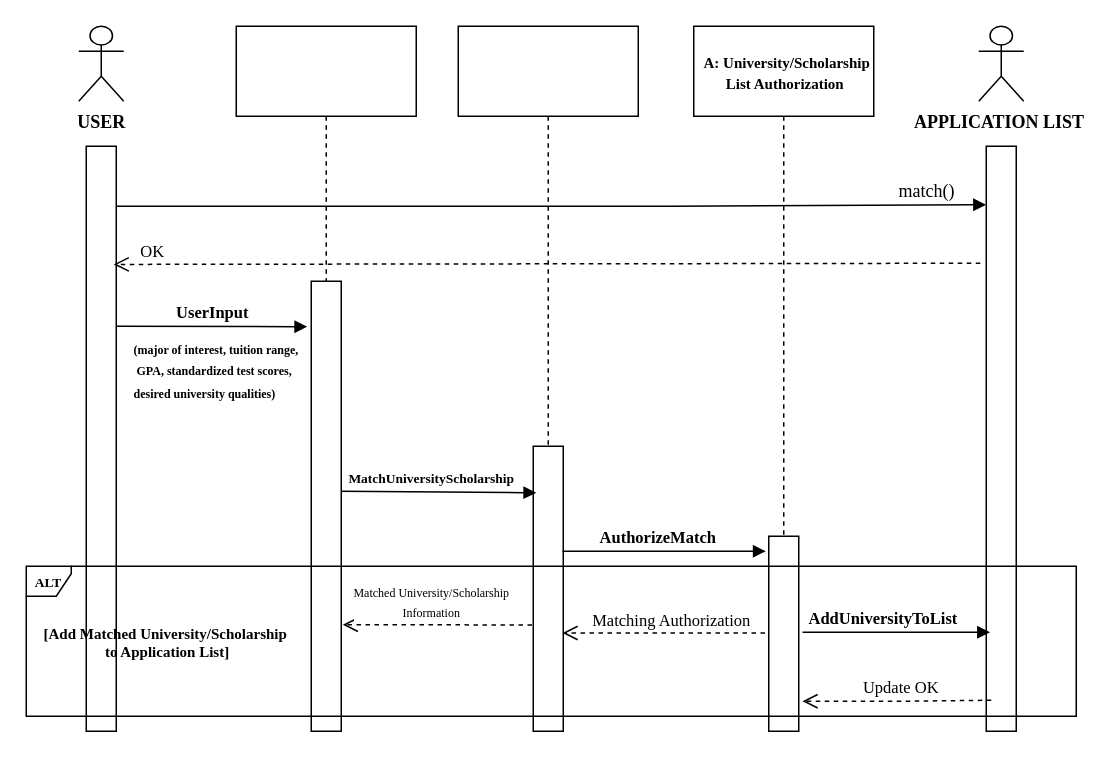
This 1115x758 diagram has some shape labels left out. The shapes that lost their labels are listed below. From the top down, each one's box as (x1, y1, x2, y2) in pixels, then its label:
(235, 25, 416, 281): U: University/Scholarship Information
(457, 25, 638, 446): D: University/Scholarship Database
